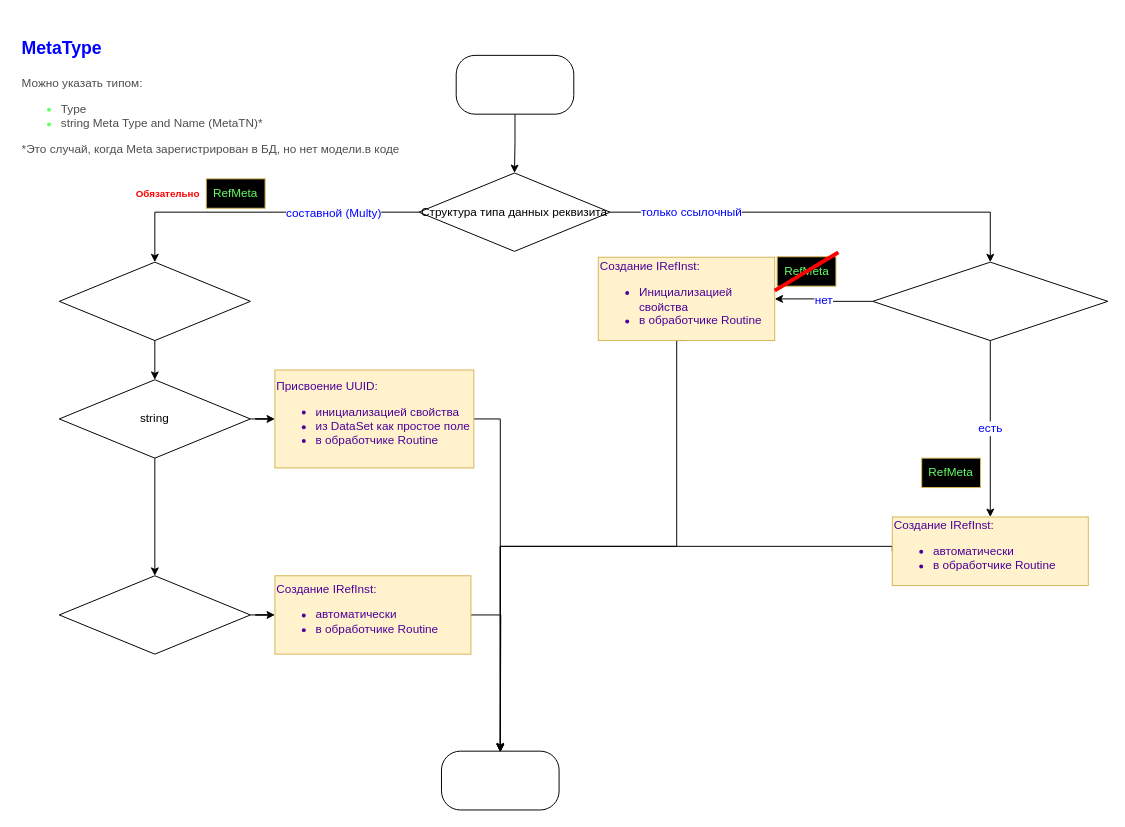
The diagram is 1125 pixels wide and 827 high, and some of its shapes have lost their labels. Here are the shapes that lost their labels. From the top down, the centre of each, then its label:
[514,84]: Начало
[154,301]: Тип данных свойства
[990,301]: Наличие атрибута RefMeta
[154,614]: object
[500,780]: Конец
